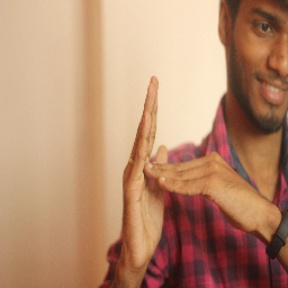Z: (112, 73, 265, 263)
